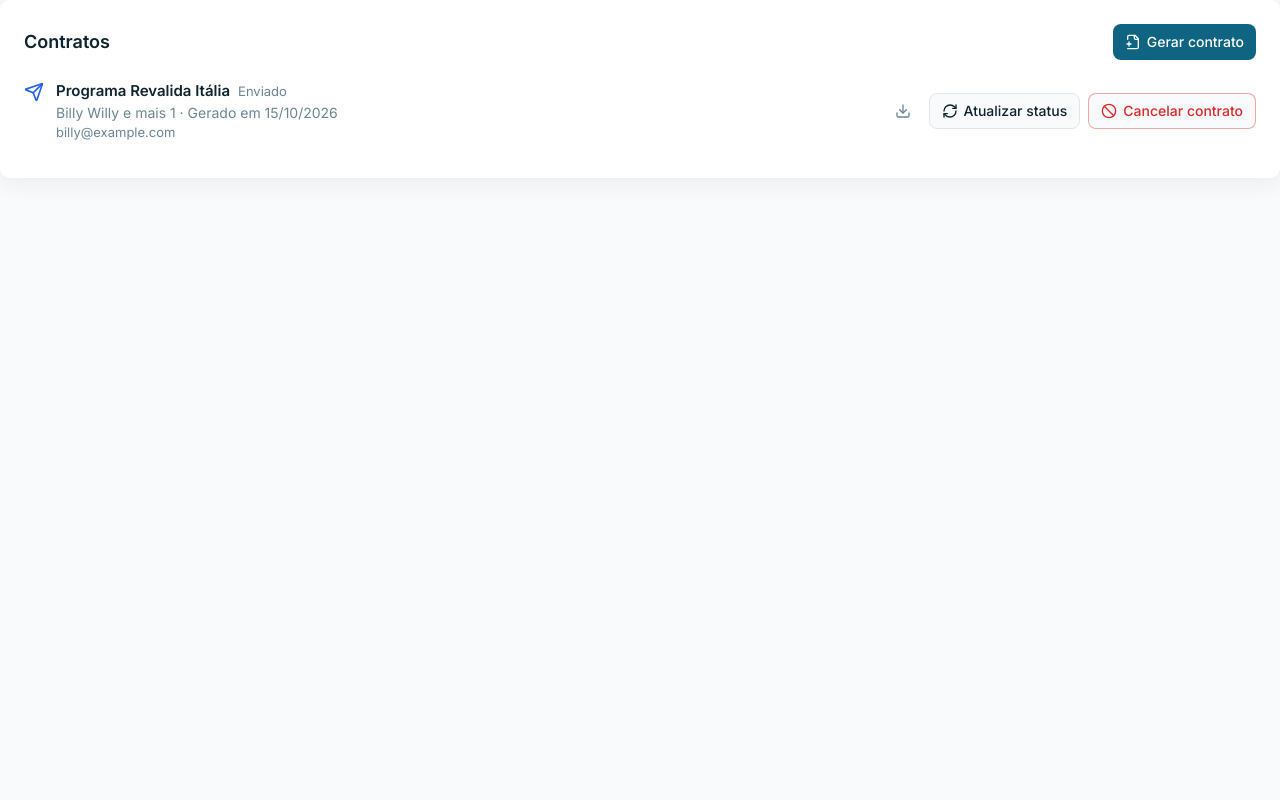
Contratos list › confirm cancels the contract, refreshes the list and shows Cancelado
Click the button "Cancelar contrato" at {"x": 1172, "y": 111}, box [1088,93,1256,129]
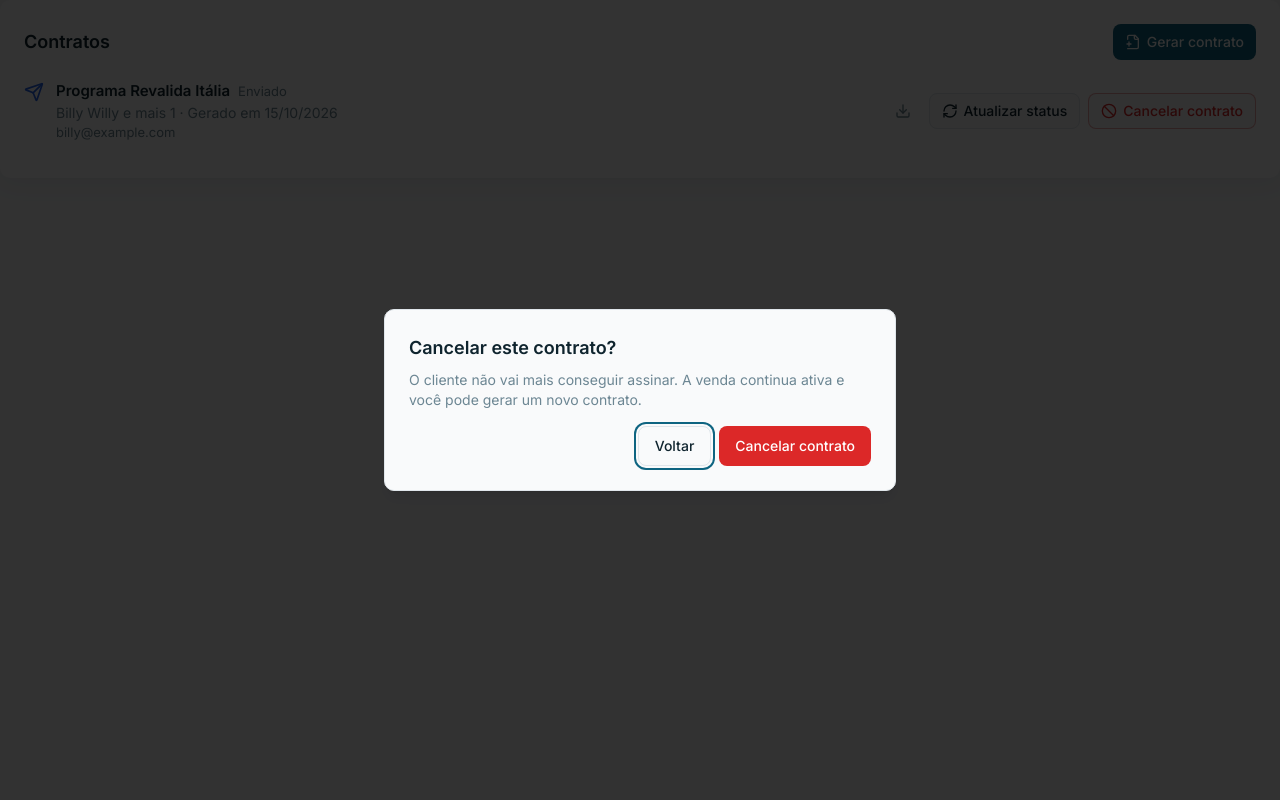
Click the button "Cancelar contrato" at {"x": 795, "y": 446}, box [719,426,871,466]
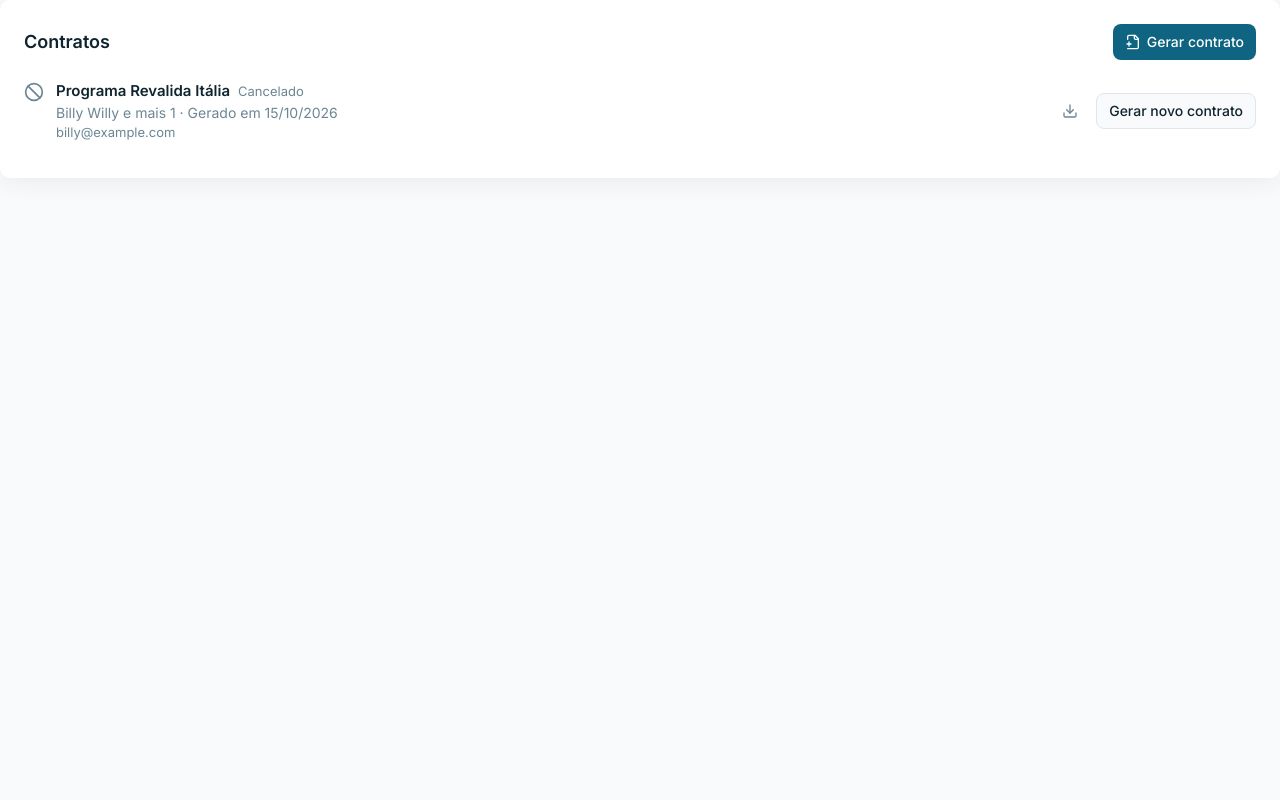
Expected: the text "Cancelado" is shown, [238,82,304,102]
Expected: the button "Cancelar contrato" is gone
Expected: the link "Gerar novo contrato" is shown, [1096,93,1256,129]
